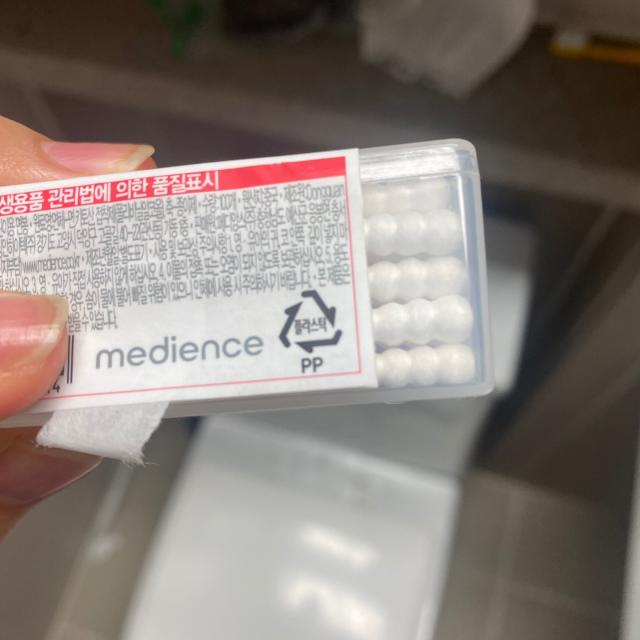Plastic: (277, 288, 346, 355)
